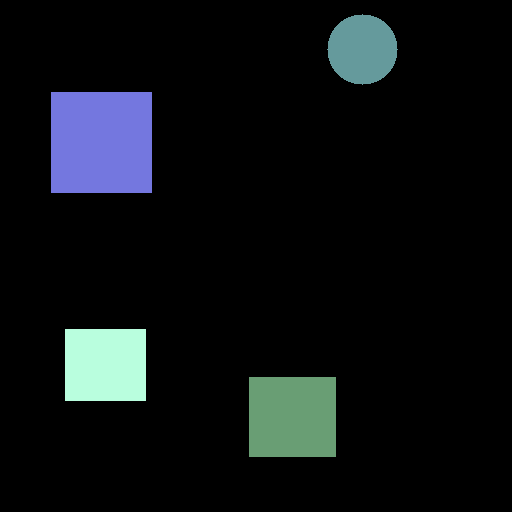circle: (327, 14, 397, 84)
rectangle: (65, 329, 145, 400)
square: (51, 92, 151, 192), (249, 377, 335, 456)
